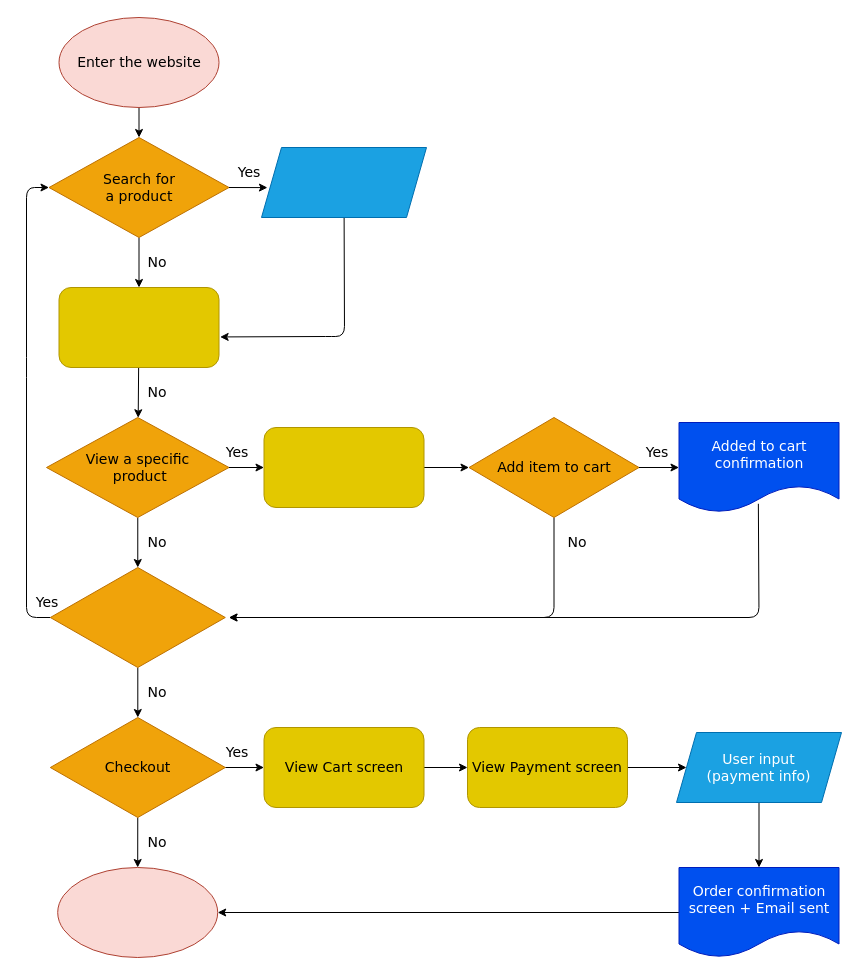
The diagram is 859 pixels wide and 975 high, and some of its shapes have lost their labels. Each missing label, with the box of its shape:
Continue shopping: (49, 566, 225, 668)
Leave the website: (57, 866, 218, 958)
Look over the products: (58, 286, 219, 368)
Open product's website: (263, 426, 424, 508)
User input (product name): (260, 146, 426, 218)
